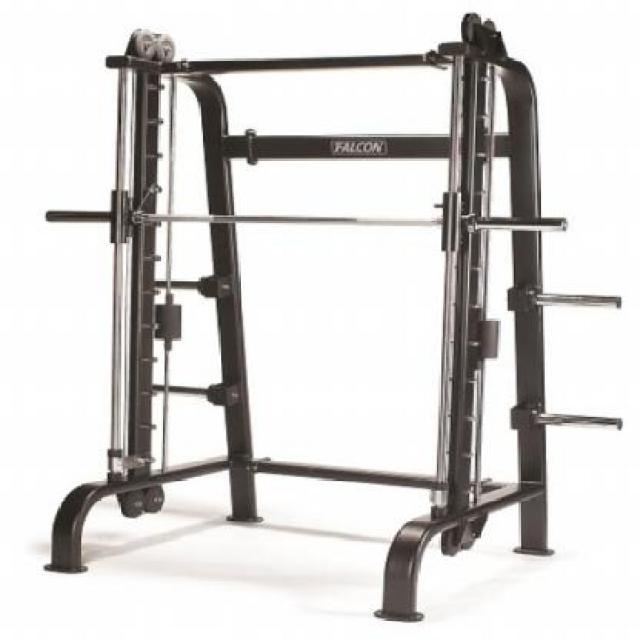smith machine: (48, 11, 626, 623)
